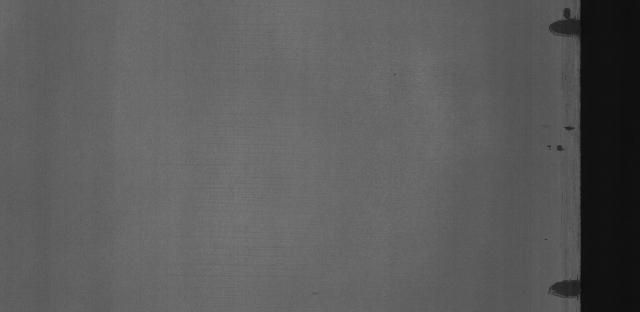oil_spot: (538, 243, 577, 312), (534, 9, 582, 46)
